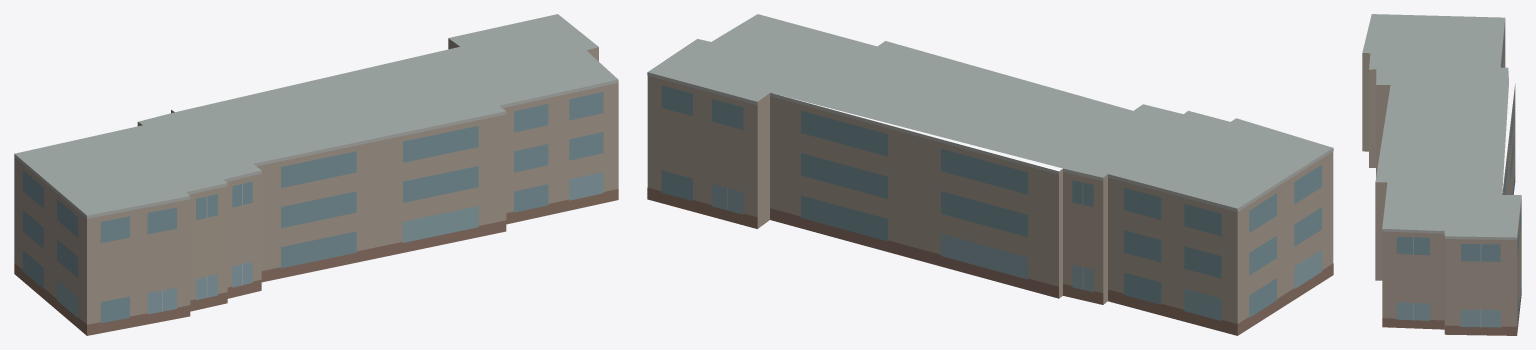
Rendered from survey-upis-32878285.glb.
The picture shows the model from 3 angles, left to right: view 1: azimuth 30°, elevation 25°; view 2: azimuth 150°, elevation 25°; view 3: azimuth 270°, elevation 25°; orthographic projection. The views are drawn at different scales.
Parts seen in each view (by area): view 1: survey-upis-32878285.tmp; view 2: survey-upis-32878285.tmp; view 3: survey-upis-32878285.tmp.
Part boxes in pixels (x1=…): survey-upis-32878285.tmp: x1=14, y1=14, x2=618, y2=335; survey-upis-32878285.tmp: x1=647, y1=14, x2=1333, y2=335; survey-upis-32878285.tmp: x1=1362, y1=14, x2=1521, y2=335.
Bounding box in the file's own units: 44.56 × 9.15 × 13.44.
